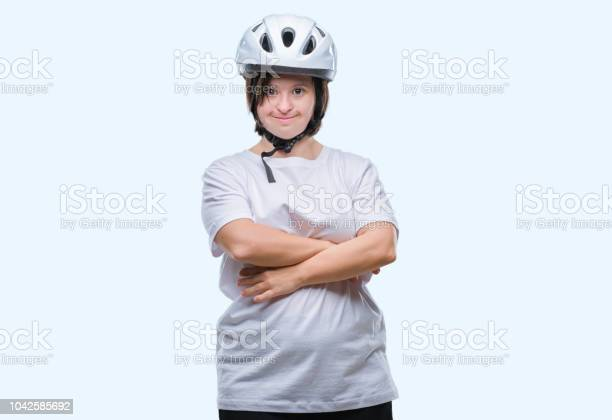helmet: (236, 13, 339, 141)
